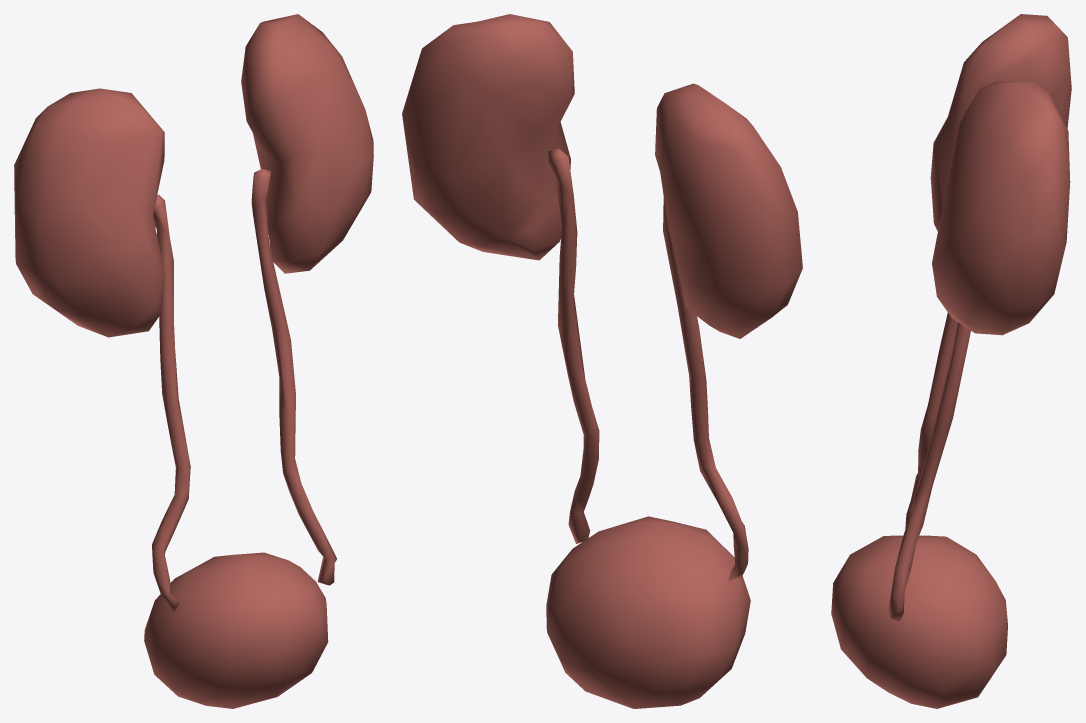
Rendered from pediatric_child_5y_male.urinary.LOD2.glb.
3 renders of one model, left to right at view 1: azimuth 30°, elevation 25°; view 2: azimuth 150°, elevation 25°; view 3: azimuth 270°, elevation 25°, orthographic. The views are drawn at different scales.
Parts seen in each view (by area): view 1: PEDIATRIC.CHILD_5Y.MALE.URINARY.KIDNEY_CORTEX.R, PEDIATRIC.CHILD_5Y.MALE.URINARY.KIDNEY_CORTEX.L, PEDIATRIC.CHILD_5Y.MALE.URINARY.URINARY_BLADDER_WALL, PEDIATRIC.CHILD_5Y.MALE.URINARY.URETER.L, PEDIATRIC.CHILD_5Y.MALE.URINARY.URETER.R; view 2: PEDIATRIC.CHILD_5Y.MALE.URINARY.KIDNEY_CORTEX.L, PEDIATRIC.CHILD_5Y.MALE.URINARY.URINARY_BLADDER_WALL, PEDIATRIC.CHILD_5Y.MALE.URINARY.KIDNEY_CORTEX.R, PEDIATRIC.CHILD_5Y.MALE.URINARY.URETER.L, PEDIATRIC.CHILD_5Y.MALE.URINARY.URETER.R; view 3: PEDIATRIC.CHILD_5Y.MALE.URINARY.KIDNEY_CORTEX.L, PEDIATRIC.CHILD_5Y.MALE.URINARY.URINARY_BLADDER_WALL, PEDIATRIC.CHILD_5Y.MALE.URINARY.KIDNEY_CORTEX.R, PEDIATRIC.CHILD_5Y.MALE.URINARY.URETER.L, PEDIATRIC.CHILD_5Y.MALE.URINARY.URETER.R.
Boxes of the visible parts, bbox=[...] form: PEDIATRIC.CHILD_5Y.MALE.URINARY.KIDNEY_CORTEX.R: bbox=[14, 88, 164, 337]; PEDIATRIC.CHILD_5Y.MALE.URINARY.KIDNEY_CORTEX.L: bbox=[241, 14, 373, 273]; PEDIATRIC.CHILD_5Y.MALE.URINARY.URINARY_BLADDER_WALL: bbox=[144, 552, 328, 708]; PEDIATRIC.CHILD_5Y.MALE.URINARY.URETER.L: bbox=[251, 169, 336, 585]; PEDIATRIC.CHILD_5Y.MALE.URINARY.URETER.R: bbox=[152, 194, 190, 611]; PEDIATRIC.CHILD_5Y.MALE.URINARY.KIDNEY_CORTEX.L: bbox=[402, 14, 574, 260]; PEDIATRIC.CHILD_5Y.MALE.URINARY.URINARY_BLADDER_WALL: bbox=[546, 516, 750, 708]; PEDIATRIC.CHILD_5Y.MALE.URINARY.KIDNEY_CORTEX.R: bbox=[655, 83, 802, 338]; PEDIATRIC.CHILD_5Y.MALE.URINARY.URETER.L: bbox=[548, 148, 599, 543]; PEDIATRIC.CHILD_5Y.MALE.URINARY.URETER.R: bbox=[663, 197, 748, 581]; PEDIATRIC.CHILD_5Y.MALE.URINARY.KIDNEY_CORTEX.L: bbox=[932, 81, 1070, 335]; PEDIATRIC.CHILD_5Y.MALE.URINARY.URINARY_BLADDER_WALL: bbox=[831, 535, 1007, 708]; PEDIATRIC.CHILD_5Y.MALE.URINARY.KIDNEY_CORTEX.R: bbox=[930, 14, 1071, 231]; PEDIATRIC.CHILD_5Y.MALE.URINARY.URETER.L: bbox=[887, 322, 970, 621]; PEDIATRIC.CHILD_5Y.MALE.URINARY.URETER.R: bbox=[905, 312, 957, 529].
Bounding box in the file's own units: 0.1232 × 0.2146 × 0.0711.
